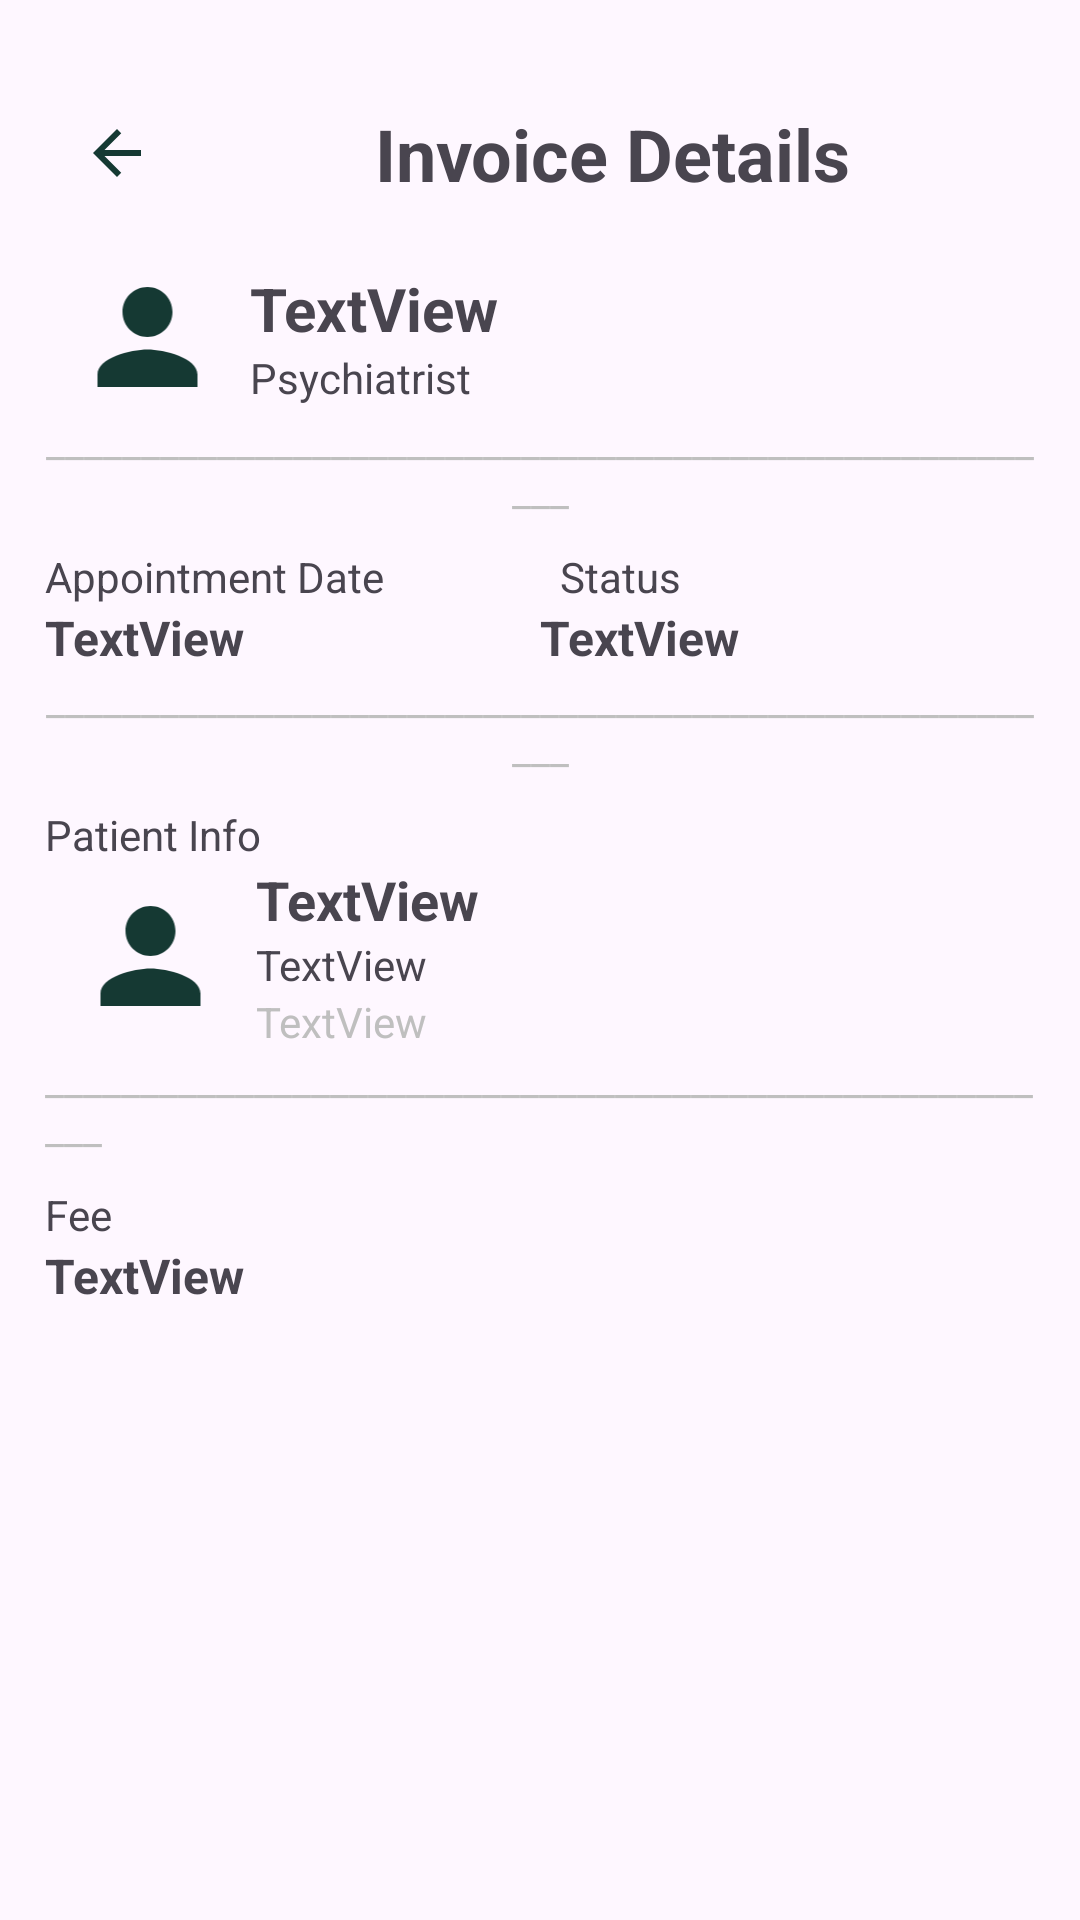

Where icons sit on this 1080 x 1920 app screen, as (x1, y1, x2, y2):
admin user: (97, 287, 198, 387), (100, 906, 201, 1006)
back: (93, 129, 141, 177)
